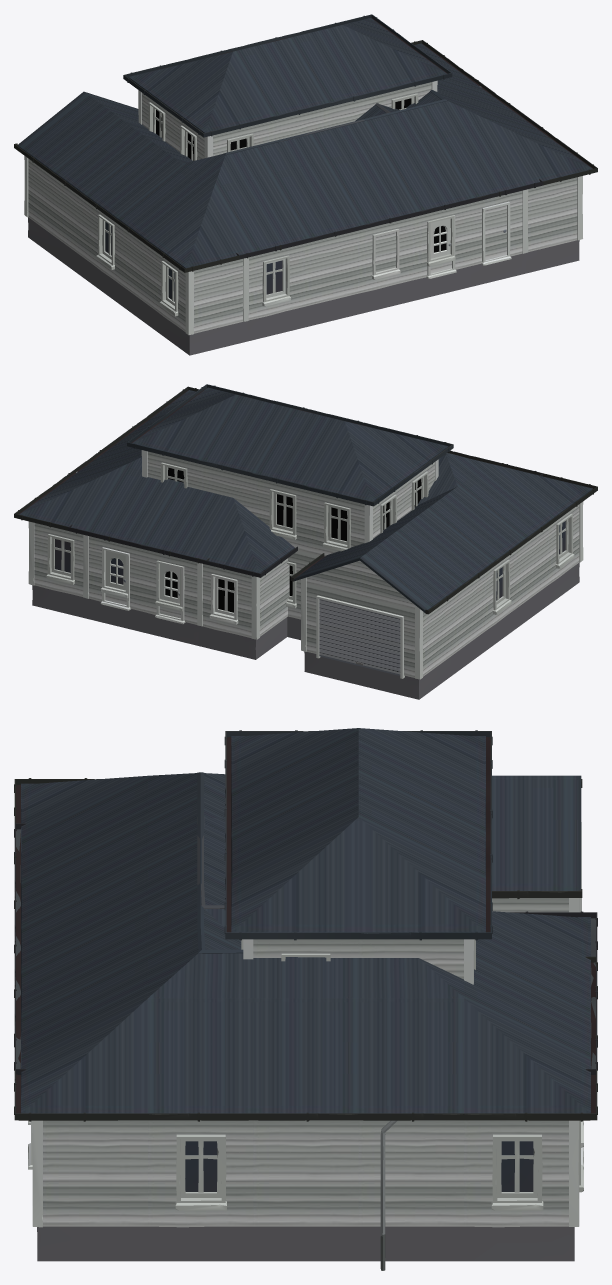
File: 3dStreetModels.glb
3 views of the same model, one above another, from view 1: azimuth 30°, elevation 25°; view 2: azimuth 150°, elevation 25°; view 3: azimuth 270°, elevation 25° (orthographic). The views are drawn at different scales.
Parts seen in each view (by area): view 1: residential_02, residential_03, residential_01; view 2: residential_02, residential_03, residential_01; view 3: residential_02, residential_03, residential_01.
Boxes of the visible parts, <box> form: residential_02: <box>14,40,597,355</box>; residential_03: <box>123,14,452,160</box>; residential_01: <box>236,103,543,341</box>; residential_02: <box>14,386,597,699</box>; residential_03: <box>127,384,453,640</box>; residential_01: <box>68,450,542,659</box>; residential_02: <box>14,772,597,1270</box>; residential_03: <box>224,728,492,984</box>; residential_01: <box>14,817,597,1147</box>.
Size of the model in its own units: 18.87 by 8.77 by 13.87.
2 materials, 2 textured.
